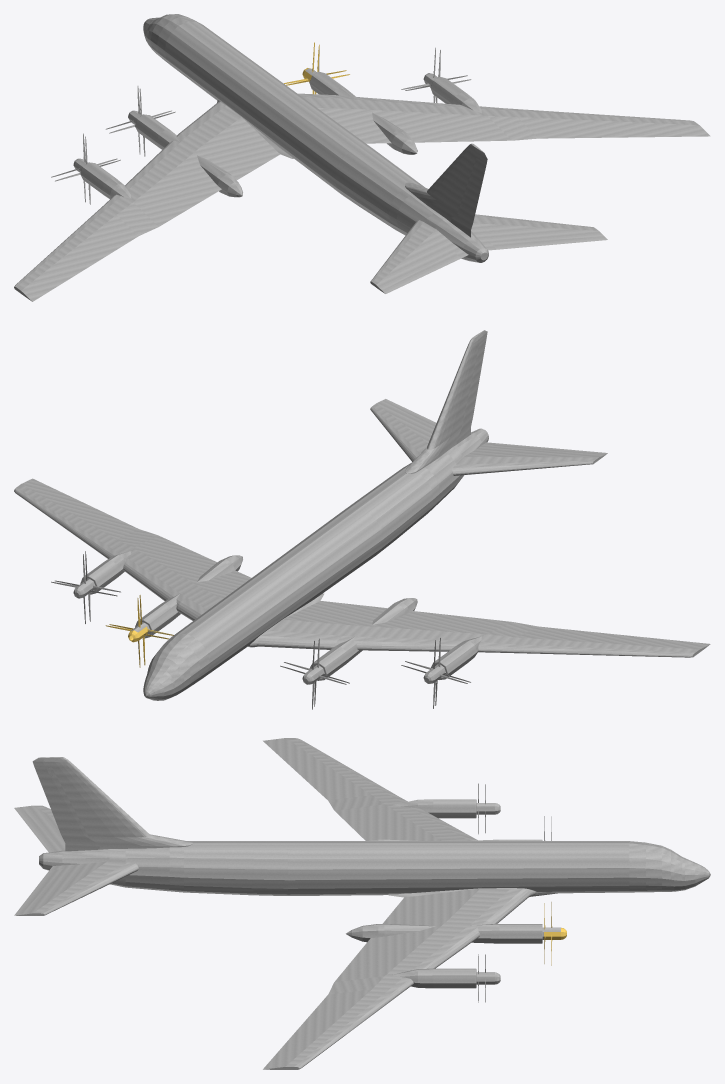
3 views of the same model, one above another, from view 1: azimuth 30°, elevation 25°; view 2: azimuth 150°, elevation 25°; view 3: azimuth 270°, elevation 25° (orthographic).
Visible parts, largest first — view 1: _(Loose Entity), C-Rudder, C-R Evetor.001, C-R Evetor.002; view 2: _(Loose Entity), C-Rudder; view 3: _(Loose Entity), C-Rudder, C-R Evetor.002.
Boxes of the visible parts, x1,y1,x2,y2 form: _(Loose Entity): (14,14,710,301); C-Rudder: (451,158,486,234); C-R Evetor.001: (491,236,607,249); C-R Evetor.002: (383,254,460,293); _(Loose Entity): (14,330,710,709); C-Rudder: (456,338,486,444); _(Loose Entity): (21,738,710,1069); C-Rudder: (34,767,99,849); C-R Evetor.002: (14,807,61,852).
Size of the model in its own units: 128 by 30.91 by 114.
2 materials, 1 textured.
